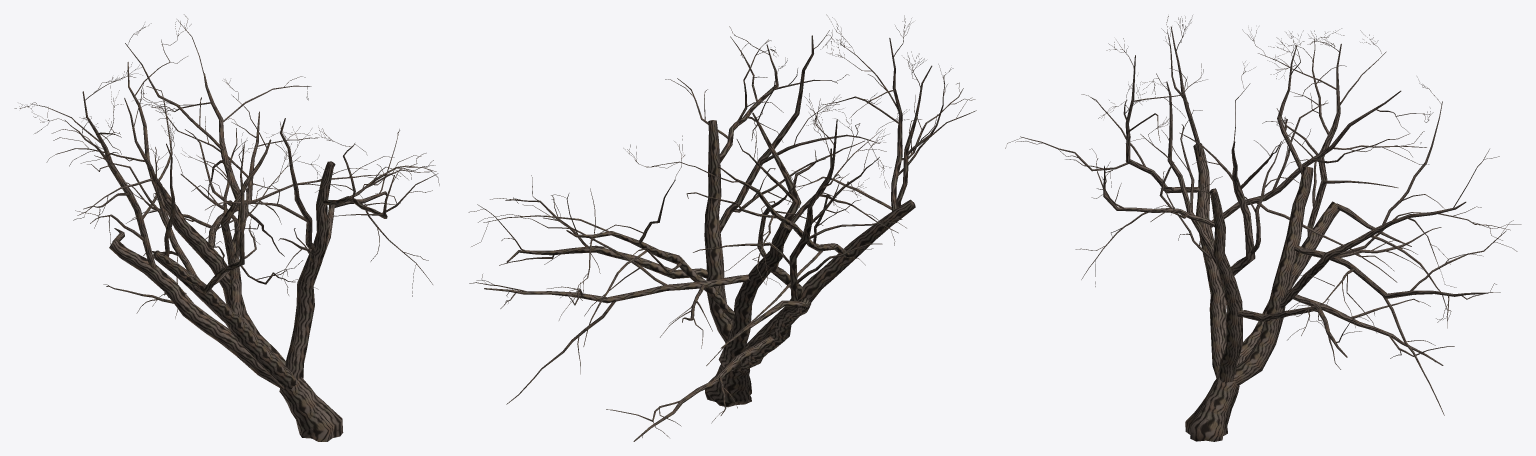
File: dead_standing-a.lod0.glb
The picture shows the model from 3 angles, left to right: view 1: azimuth 30°, elevation 25°; view 2: azimuth 150°, elevation 25°; view 3: azimuth 270°, elevation 25°; orthographic projection. The views are drawn at different scales.
Visible parts, largest first — view 1: bark; view 2: bark; view 3: bark.
Part boxes in pixels (x1,y1,x2,y2): bark: [14, 14, 439, 441]; bark: [468, 14, 976, 441]; bark: [1005, 15, 1521, 441].
Size of the model in its own units: 8.93 by 8 by 10.85.
1 material, 1 textured.
